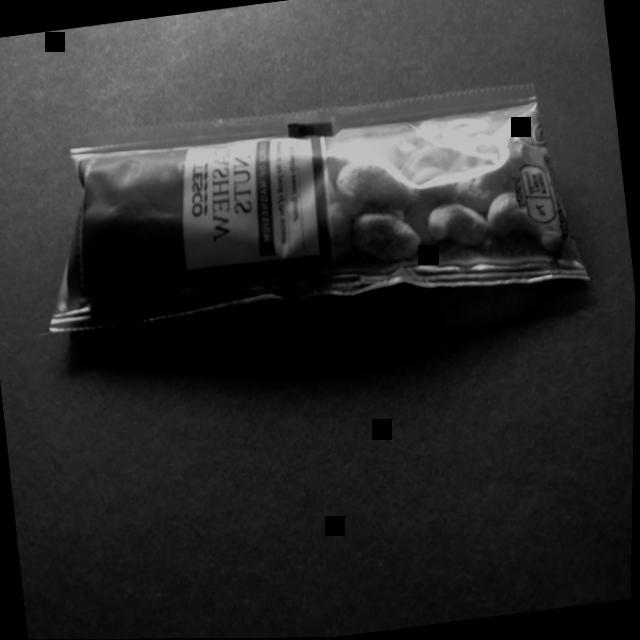Cashewnut: (14, 52, 603, 373)
